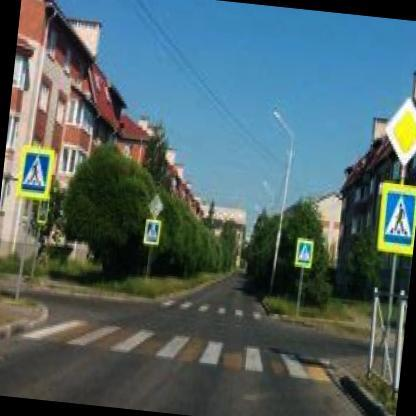obstructed_road_sign: (385, 98, 415, 166)
road_sign: (376, 181, 415, 255), (16, 144, 55, 201), (294, 237, 313, 268), (143, 220, 163, 246)
